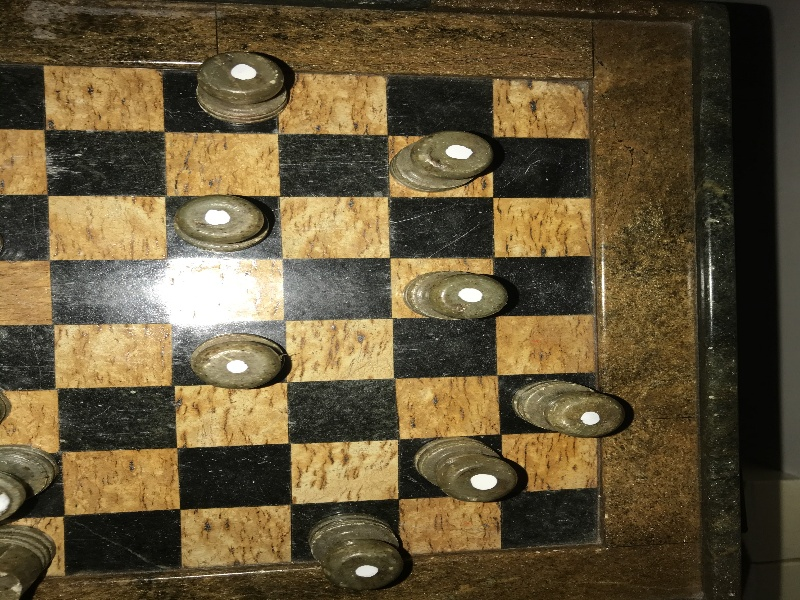WhitePawn: (309, 511, 402, 591), (414, 437, 517, 502), (514, 377, 620, 437), (198, 51, 286, 123), (391, 130, 491, 193), (175, 195, 268, 251), (192, 334, 283, 389), (405, 271, 506, 319)
